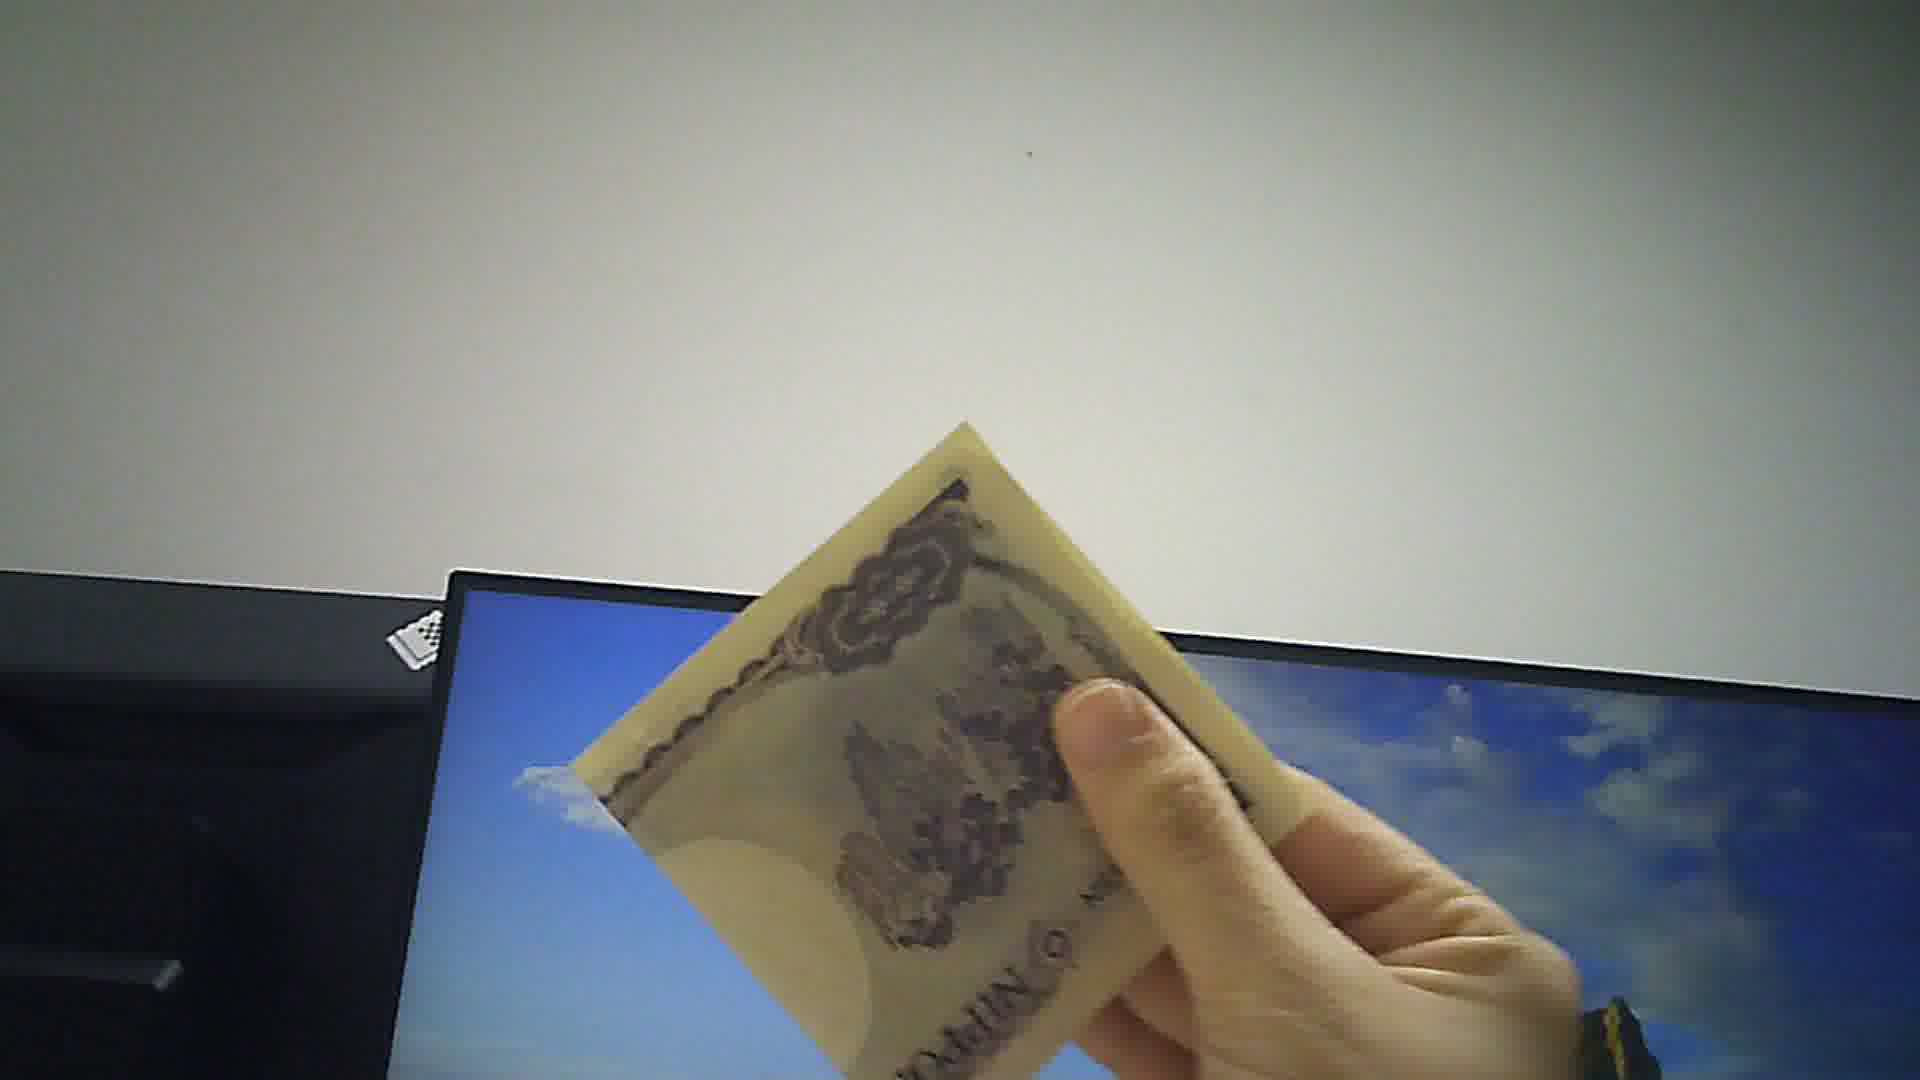5,000 Yen: (550, 384, 1294, 1079)
